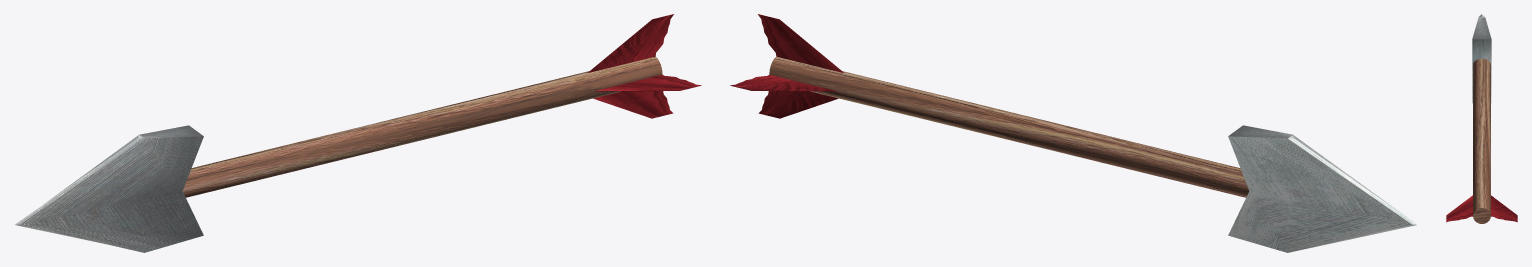
File: Arrow Object.fbx
3 renders of one model, left to right at view 1: azimuth 30°, elevation 25°; view 2: azimuth 150°, elevation 25°; view 3: azimuth 270°, elevation 25°, orthographic. The views are drawn at different scales.
Parts seen in each view (by area): view 1: polySurface4; view 2: polySurface4; view 3: polySurface4.
Boxes of the visible parts, x1=… form: polySurface4: x1=14, y1=14, x2=701, y2=252; polySurface4: x1=730, y1=14, x2=1417, y2=252; polySurface4: x1=1446, y1=14, x2=1517, y2=223.
Size of the model in its own units: 12.13 by 2.01 by 1.76.
